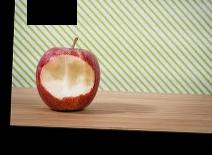rotten apple: (33, 45, 103, 115)
